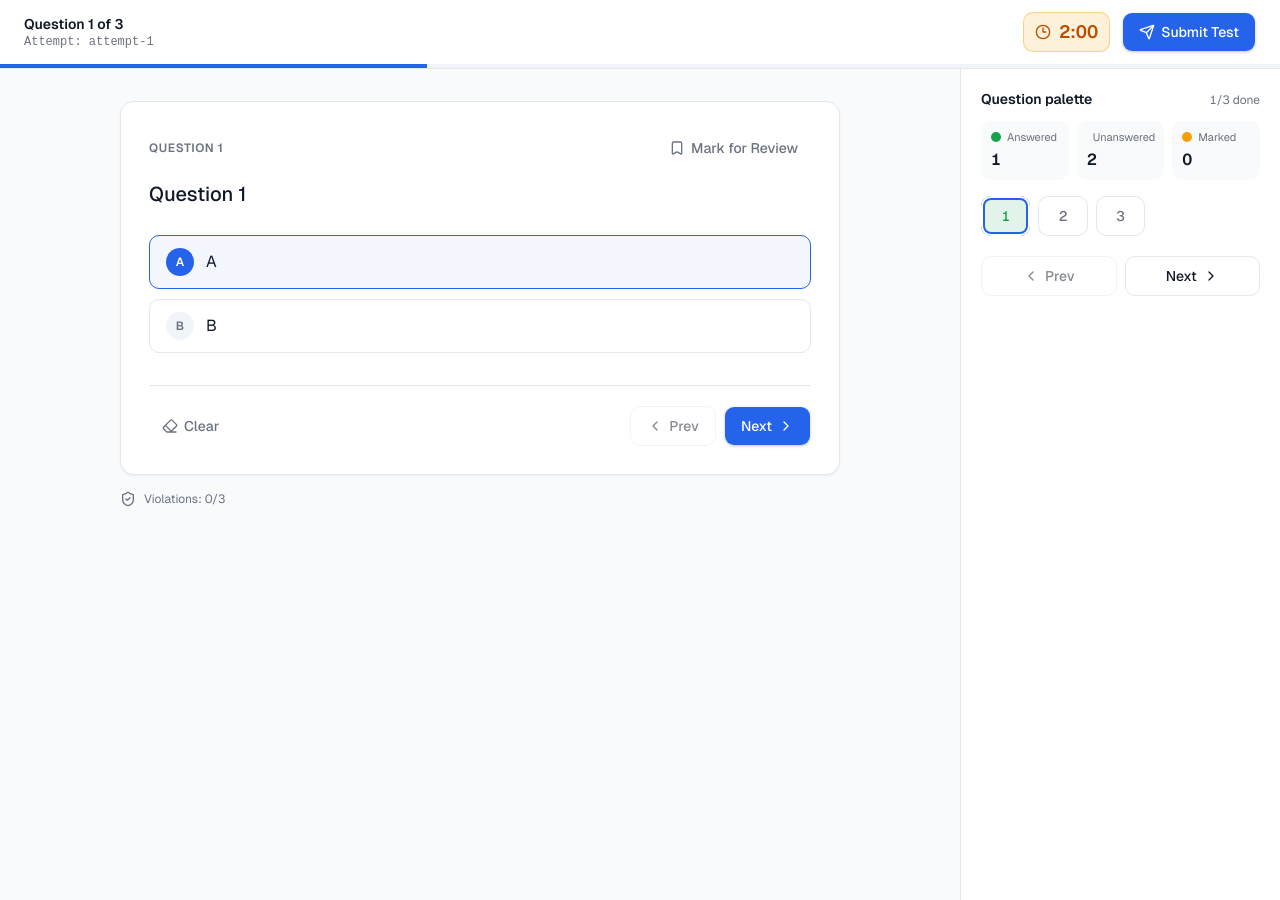
Scenario: TestEnvironment submit confirmation dialogs › OPEN_TEST: confirms before submitting and reports the answer breakdown
Click the button "Submit Test".
click(1189, 32)  # box 1122,12 -> 1256,52
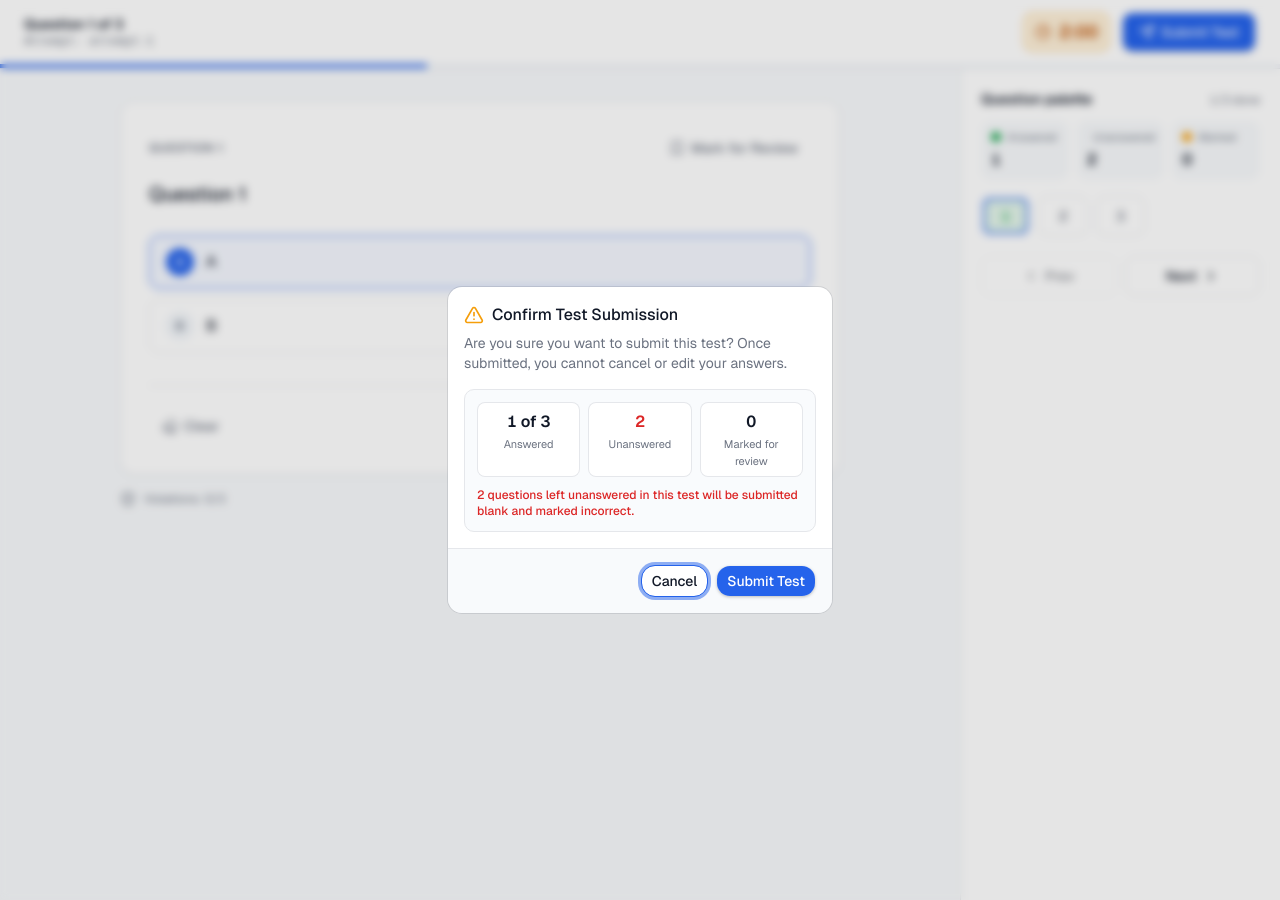
Result: the heading "Confirm Test Submission" is shown at 464,303 -> 678,327
Result: the text "1 of 3" is shown at 507,411 -> 550,432
Result: the text "2 questions left unanswered in this test will be submitted blank and marked incorrect." is shown at 477,487 -> 798,519
Click the button "Cancel".
click(675, 581)  # box 641,565 -> 708,597
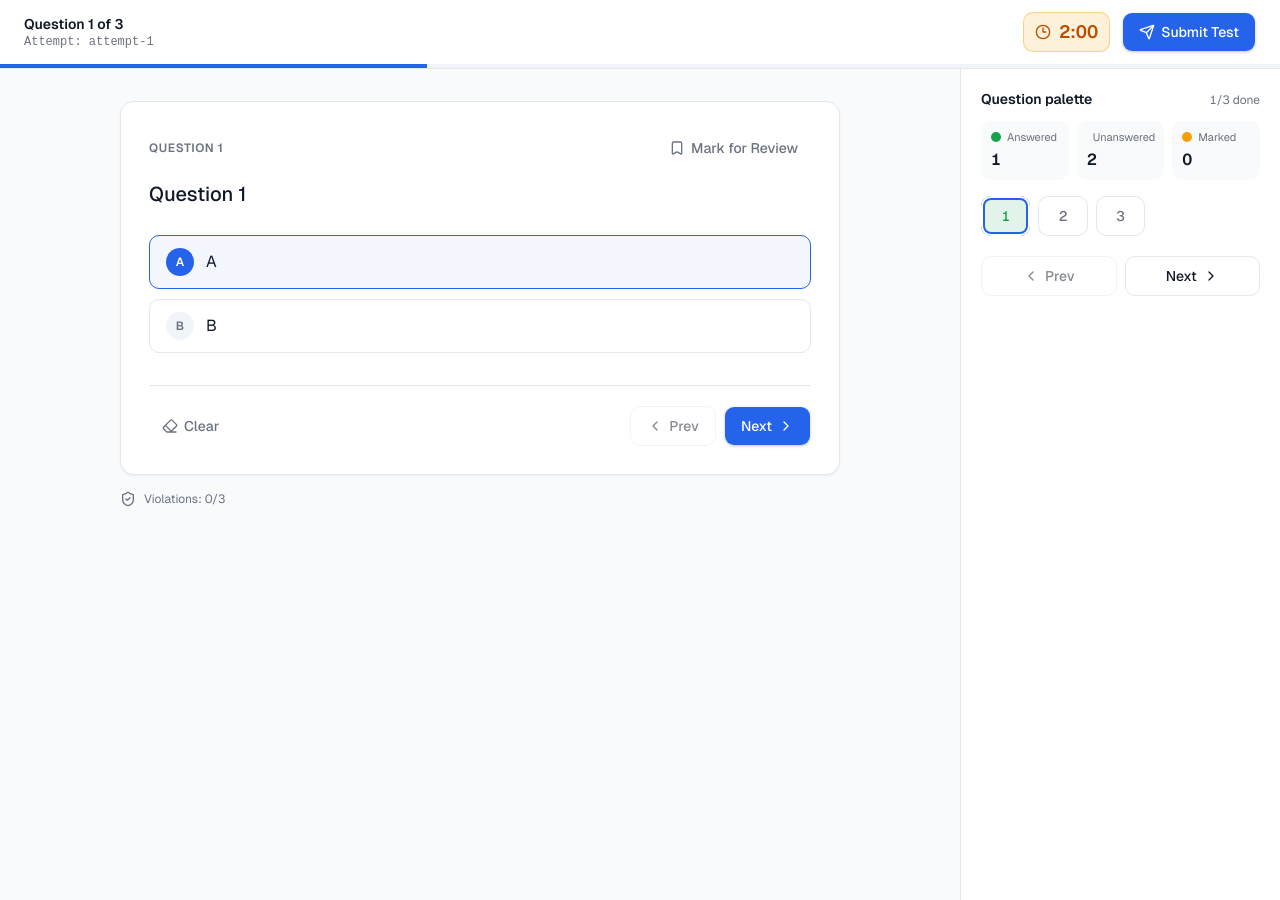
Result: the heading "Confirm Test Submission" is gone
